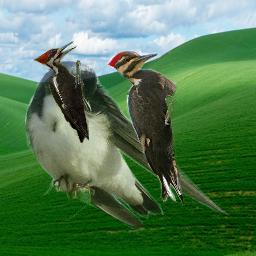Swallow: (21, 58, 228, 231)
Woodpecker: (107, 50, 185, 206), (33, 41, 89, 143)
